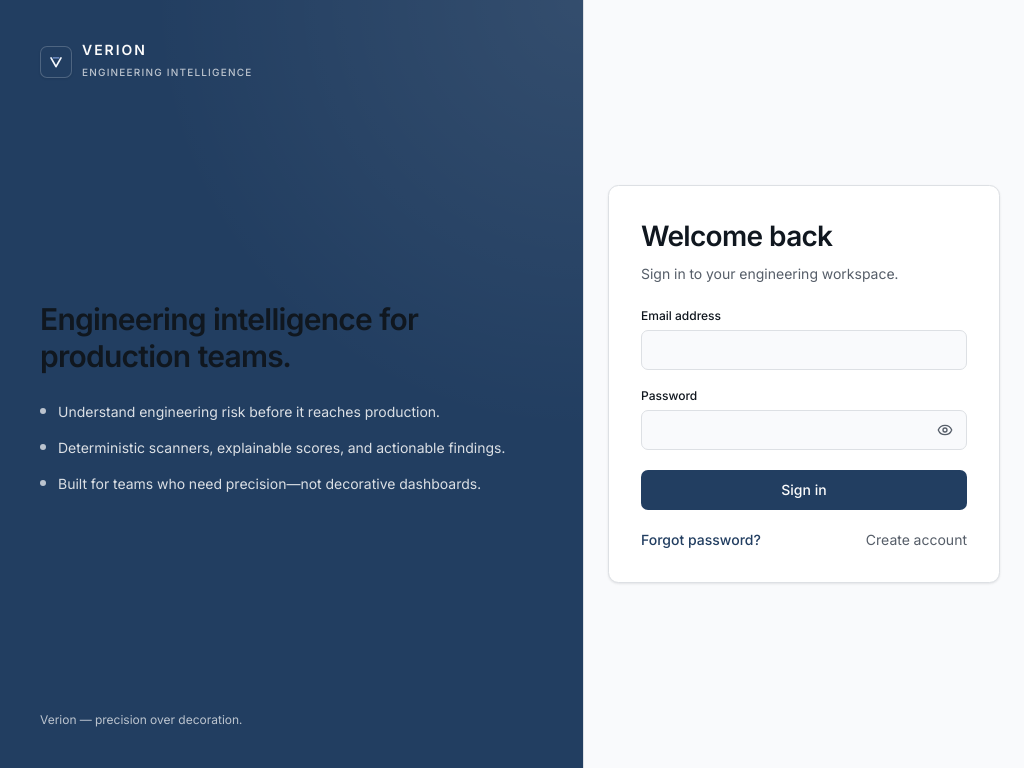
LoginPage › shows validation errors before submit
Click the button "Sign in" at (804, 490), box [641,470,967,510]
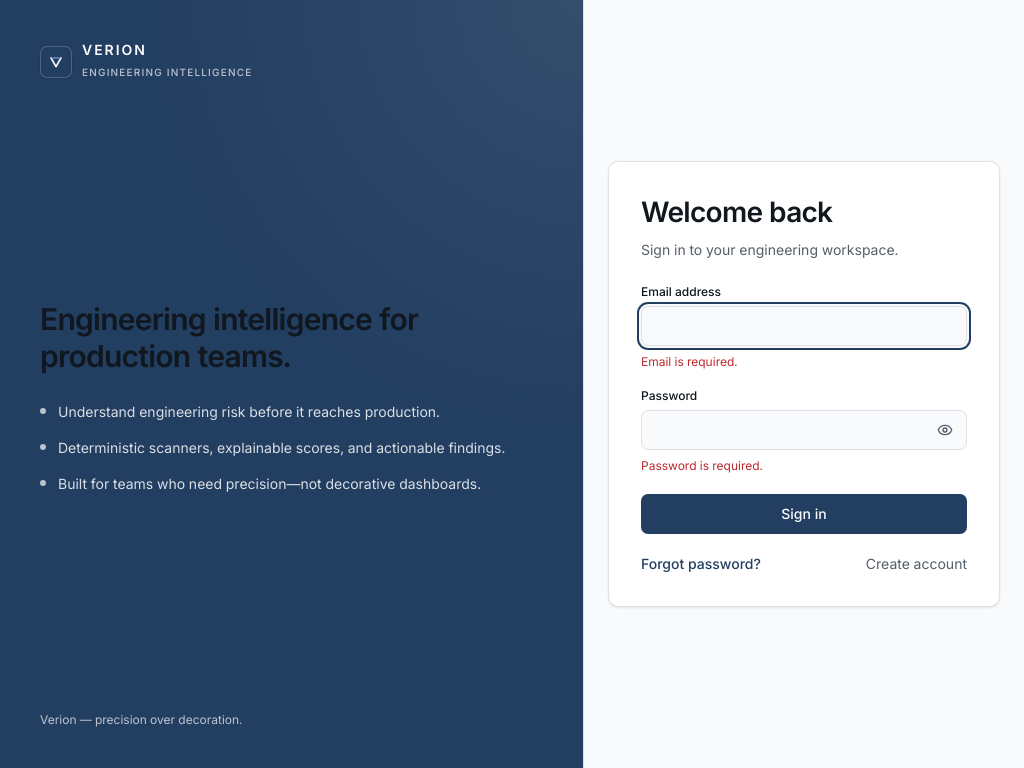
Result: the text "Email is required." is shown at [641,354,738,369]
Result: the text "Password is required." is shown at [641,458,763,473]
